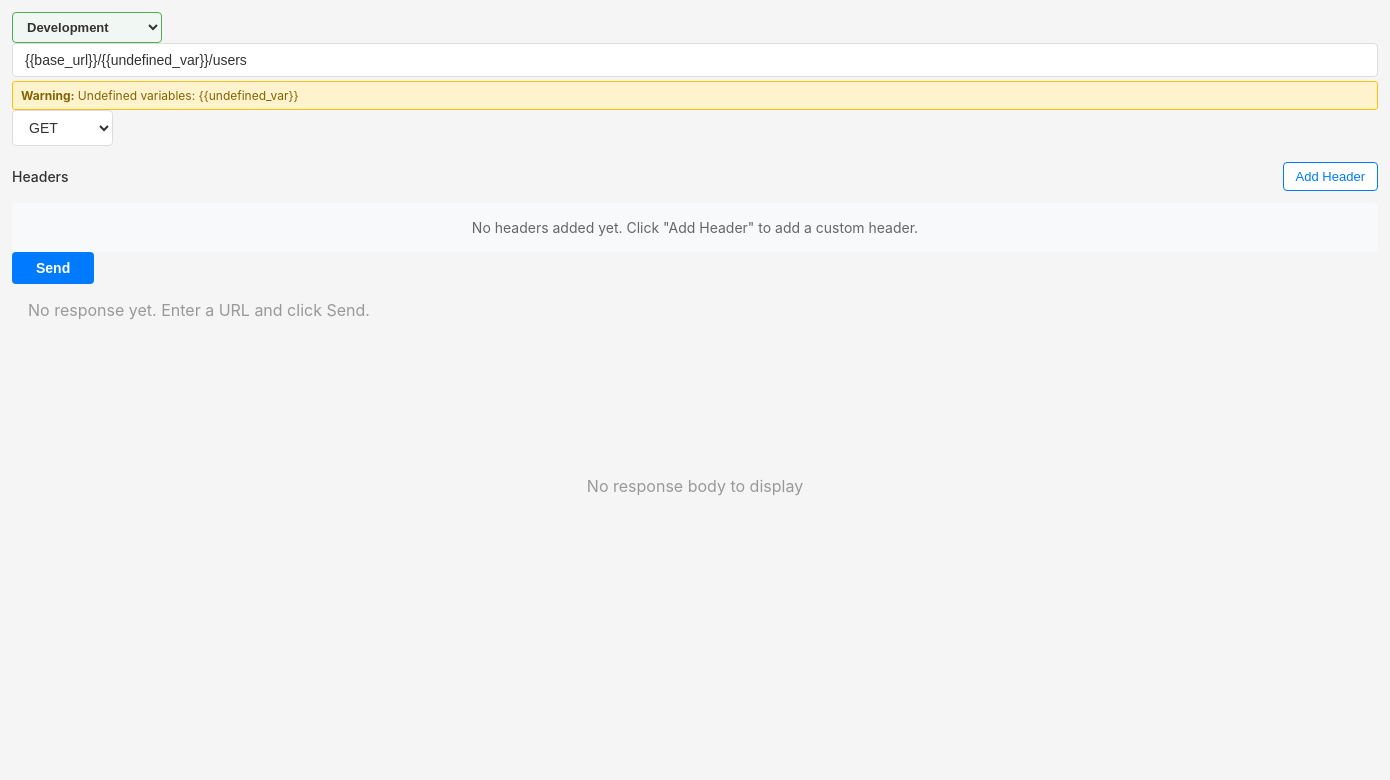
Test: Integration: Environment Variables Workflow › T083: Undefined variable error handling › should show warning when variable is not defined and not send request
Note: Try to send request - should fail
Click the button "Send": click(53, 268) [12,252,94,284]
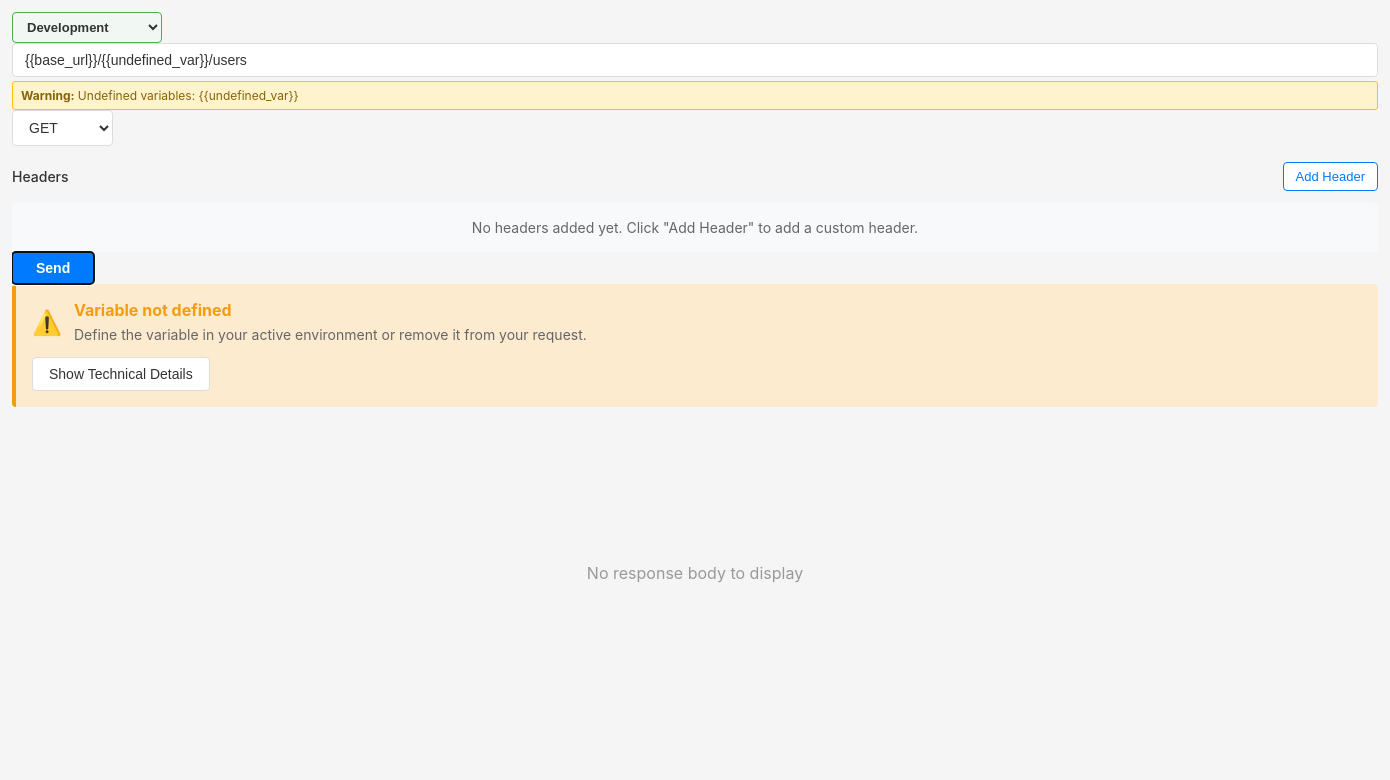
Expected: the text "Variable not defined" is shown, [74,300,232,320]
